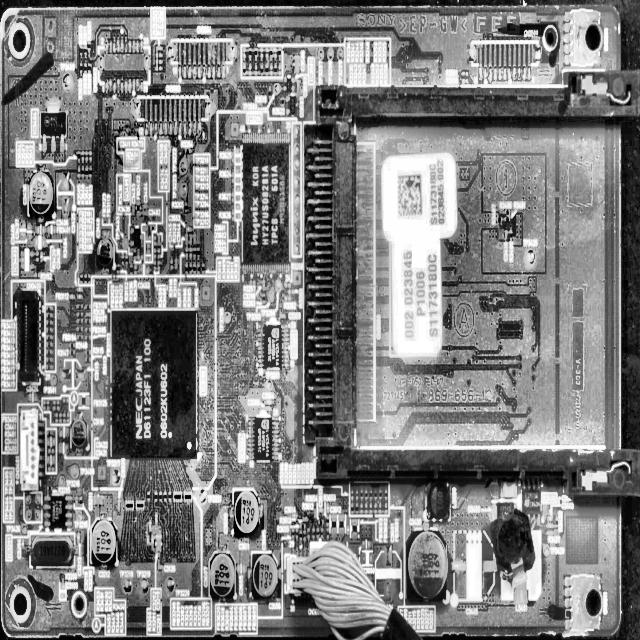PCB: (0, 3, 632, 640)
